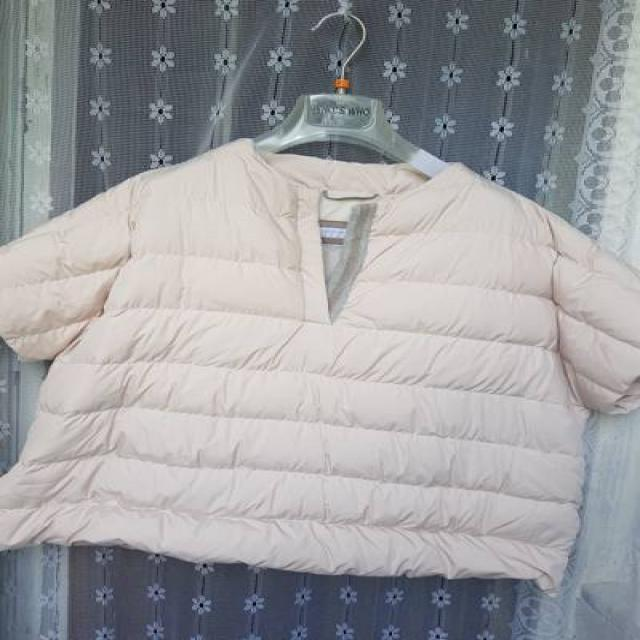Clothes -Biodegradable-: (0, 147, 640, 589)
